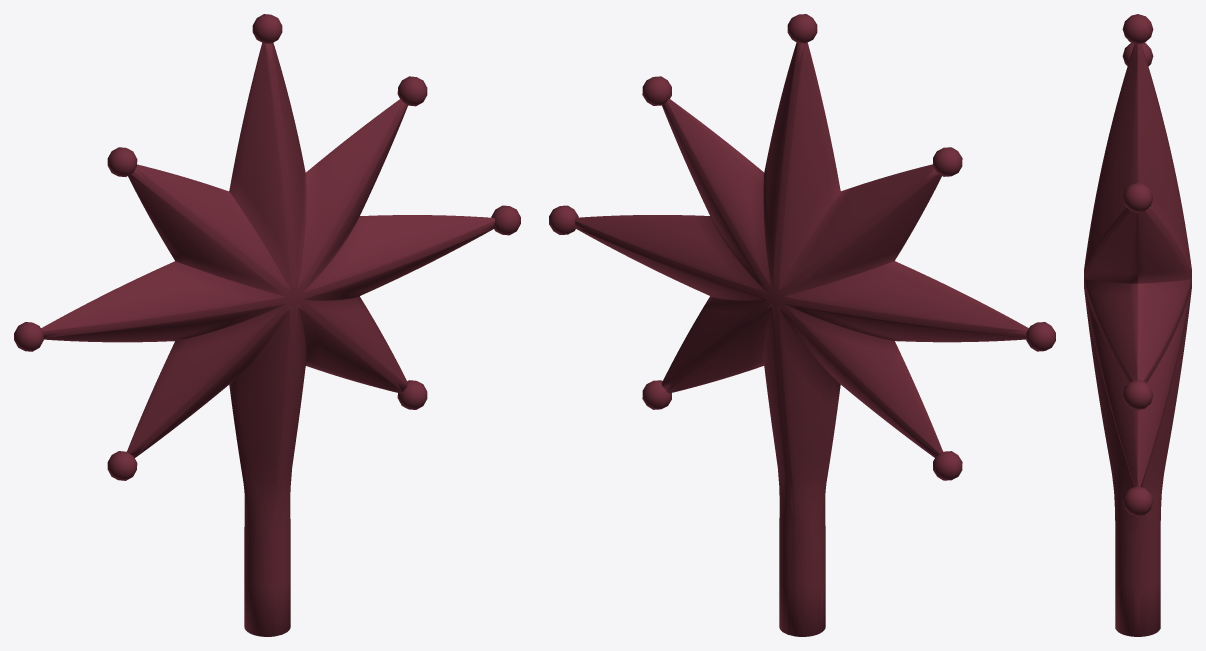
The model's file is red_glossy_rubybeads.glb.
3 renders of one model, left to right at view 1: azimuth 30°, elevation 25°; view 2: azimuth 150°, elevation 25°; view 3: azimuth 270°, elevation 25°, orthographic.
Visible parts, largest first — view 1: big_star; view 2: big_star; view 3: big_star.
Part boxes in pixels (<box>): big_star: <box>14,14,520,636</box>; big_star: <box>549,14,1055,636</box>; big_star: <box>1084,14,1191,636</box>.
Bounding box in the file's own units: 0.378 × 0.4385 × 0.0701.
